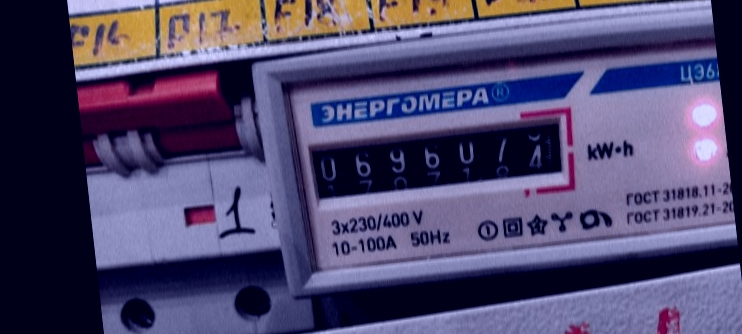0: (452, 134, 474, 166), (314, 152, 335, 182)
4: (522, 142, 541, 171)
6: (418, 140, 440, 171), (349, 147, 371, 177)
7: (488, 132, 508, 164)
9: (384, 145, 404, 175)
screen: (290, 99, 583, 218)
